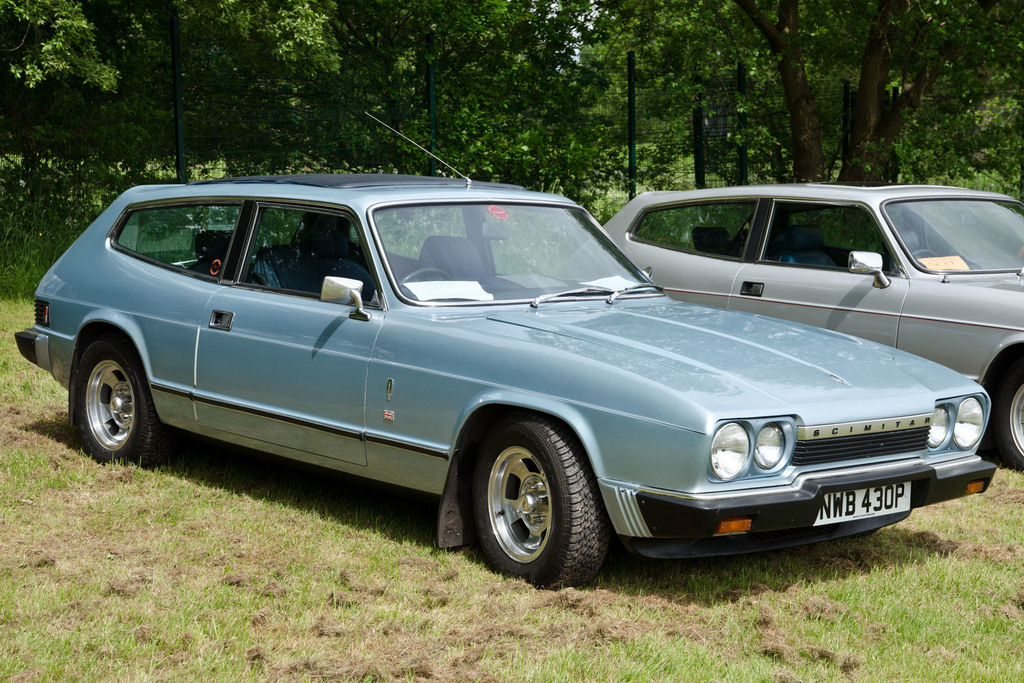Car: (16, 103, 996, 590), (550, 174, 1023, 471)
